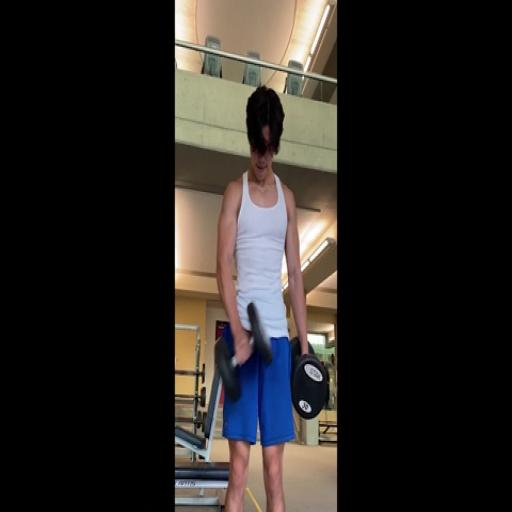exercise: (211, 84, 317, 510)
